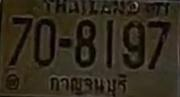0: (33, 18, 55, 66)
1: (106, 20, 112, 68)
7: (147, 20, 170, 69), (10, 16, 31, 65)
8: (74, 20, 95, 67)
9: (122, 21, 144, 69)
KRI: (47, 71, 129, 97)
